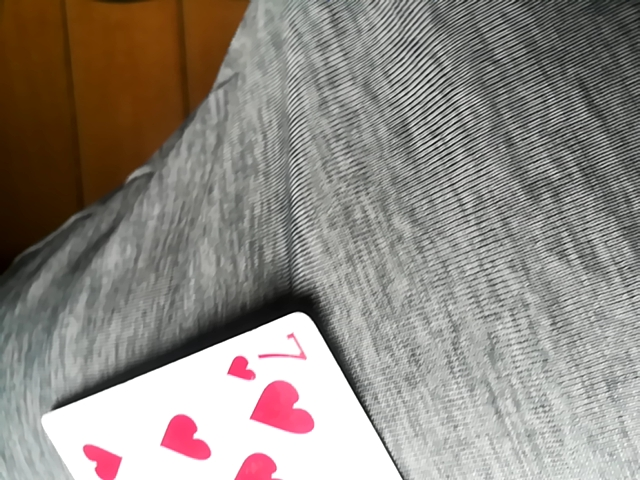hx 7: (45, 310, 418, 478)
